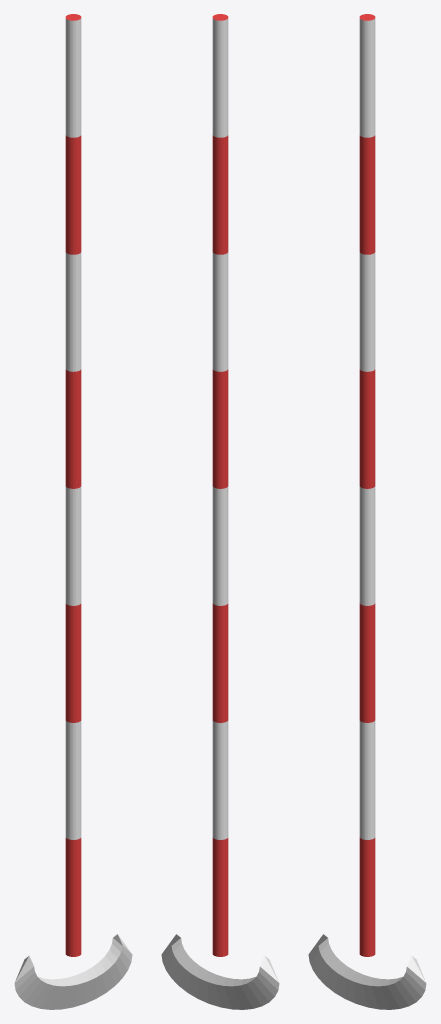
File: Cuchilla.fbx
The picture shows the model from 3 angles, left to right: view 1: azimuth 30°, elevation 25°; view 2: azimuth 150°, elevation 25°; view 3: azimuth 330°, elevation 25°; orthographic projection.
Visible parts, largest first — view 1: PaloCuchilla.003, Cuchilla; view 2: PaloCuchilla.003, Cuchilla; view 3: PaloCuchilla.003, Cuchilla.
Boxes of the visible parts, x1,y1,x2,y2 form: PaloCuchilla.003: (65, 14, 81, 956); Cuchilla: (14, 934, 132, 1009); PaloCuchilla.003: (212, 14, 228, 956); Cuchilla: (161, 934, 279, 1009); PaloCuchilla.003: (359, 14, 375, 956); Cuchilla: (308, 934, 426, 1009).
Size of the model in its own units: 428 by 3434 by 60.7.
1 material, 1 textured.
